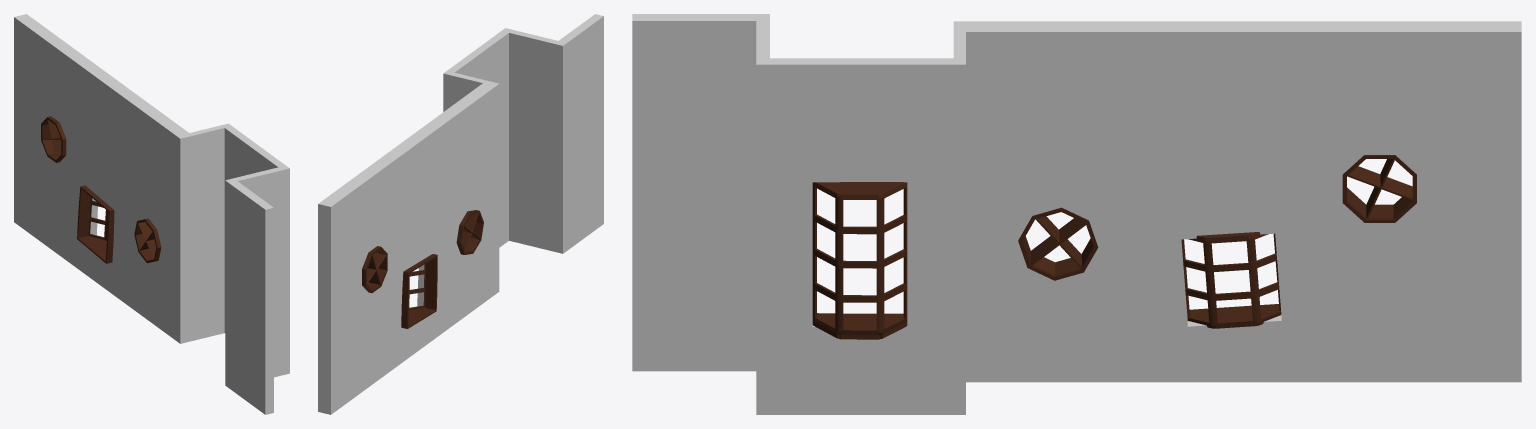
Rendered from WallWithWindows 4.glb.
3 views of the same model, side by side, from view 1: azimuth 30°, elevation 25°; view 2: azimuth 150°, elevation 25°; view 3: azimuth 270°, elevation 25° (orthographic). The views are drawn at different scales.
Parts seen in each view (by area): view 1: Cube.015, Cylinder.007, Cylinder.004, Cylinder.006; view 2: Cube.015, Cylinder.007, Cylinder.006, Cylinder.004; view 3: Cube.015, Cylinder.002, Cylinder.007, Cylinder.006, Cylinder.004.
Part boxes in pixels (x1,y1,x2,y2): Cube.015: [14, 14, 289, 414]; Cylinder.007: [77, 185, 114, 263]; Cylinder.004: [41, 116, 66, 162]; Cylinder.006: [134, 218, 161, 263]; Cube.015: [318, 14, 603, 414]; Cylinder.007: [401, 254, 437, 328]; Cylinder.006: [456, 210, 483, 254]; Cylinder.004: [362, 246, 387, 293]; Cube.015: [632, 14, 1521, 414]; Cylinder.002: [812, 182, 907, 339]; Cylinder.007: [1181, 232, 1281, 328]; Cylinder.006: [1018, 207, 1098, 280]; Cylinder.004: [1342, 155, 1416, 222].
Bounding box in the file's own units: 3.13 × 8.03 × 18.47.
